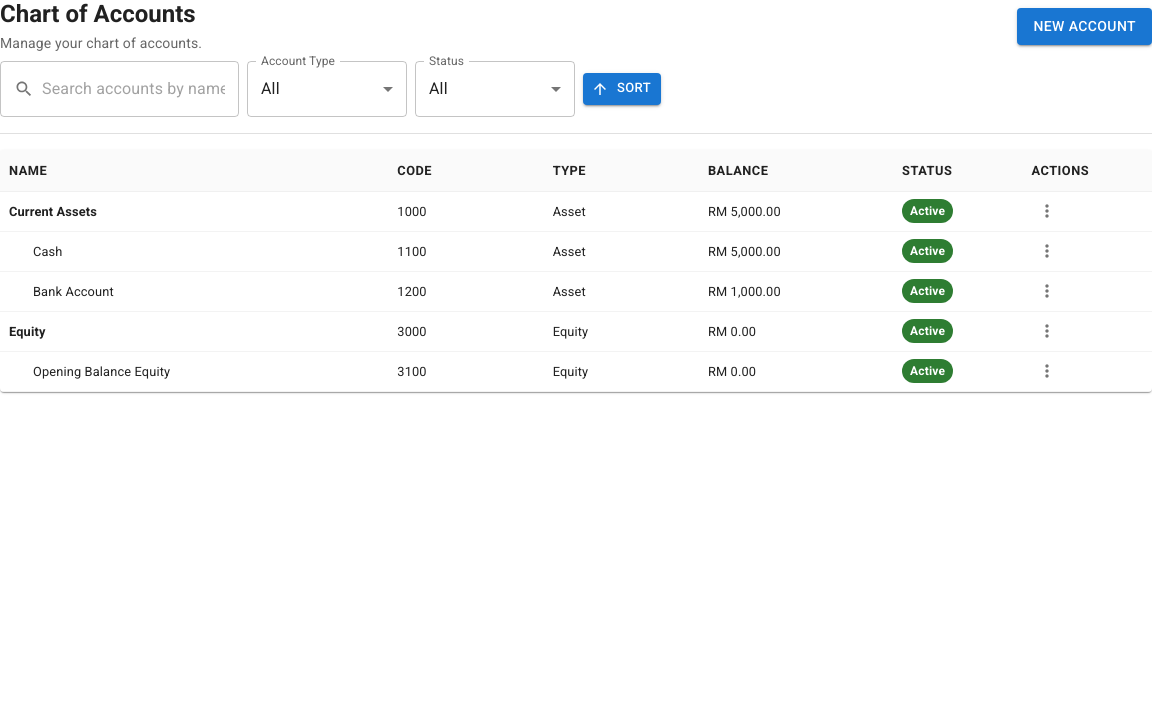
it: ChartOfAccountsPage › prefills the parent when adding a child account
Click the button named "row actions" in the row of "Current Assets": (1046, 211) [1032, 196, 1062, 226]
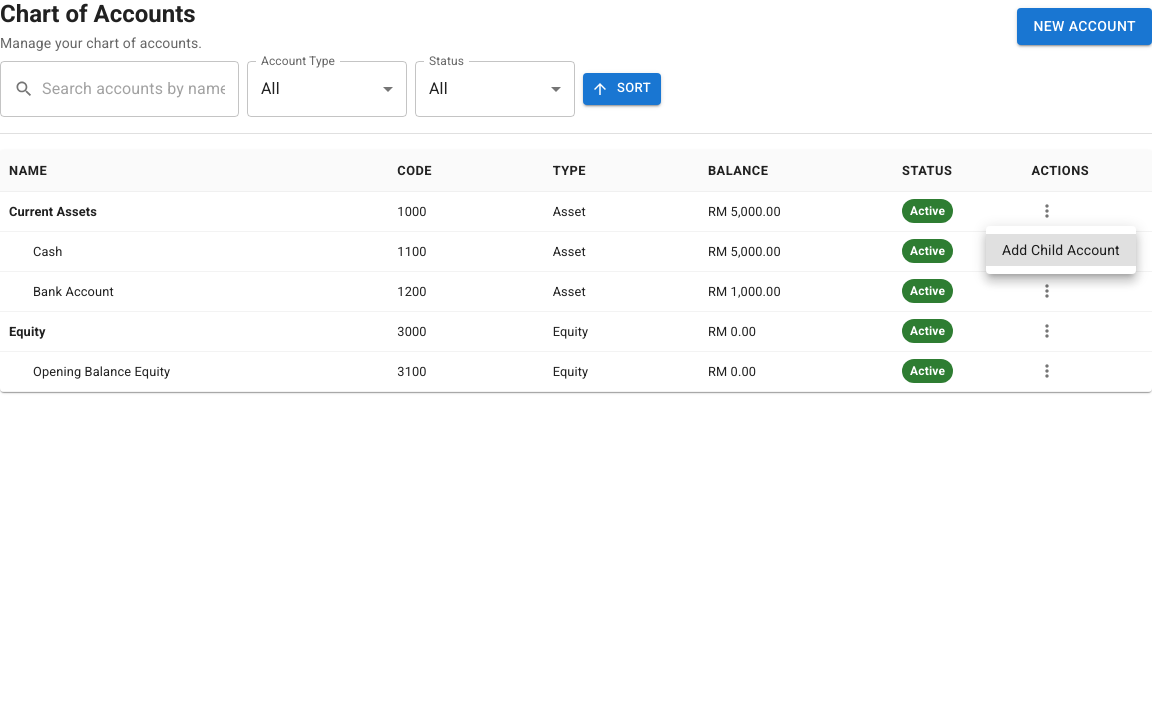
Click the menu item "Add Child Account": (1061, 250) [986, 234, 1136, 266]
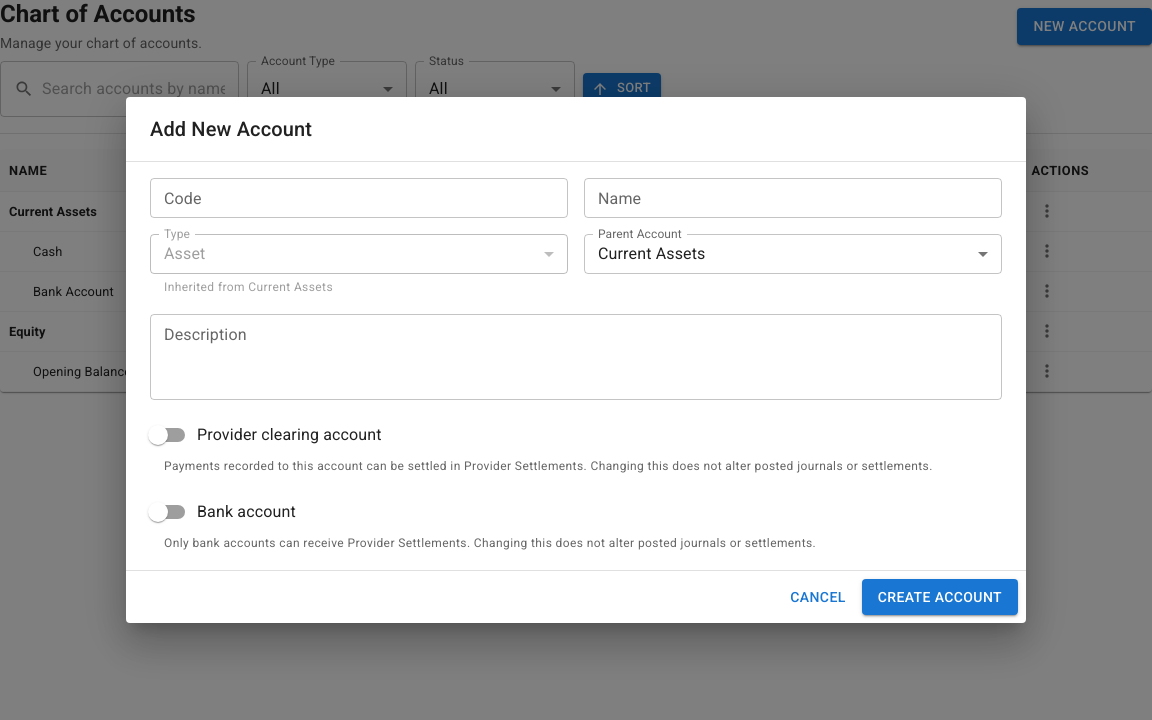
Expected: the text "Inherited from Current Assets" is shown, [164, 280, 333, 294]
